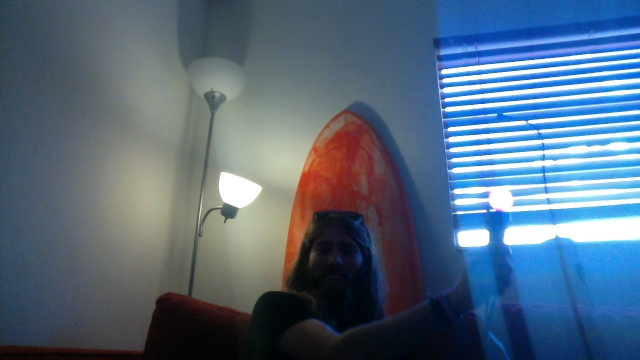wand: (489, 189, 513, 212)
